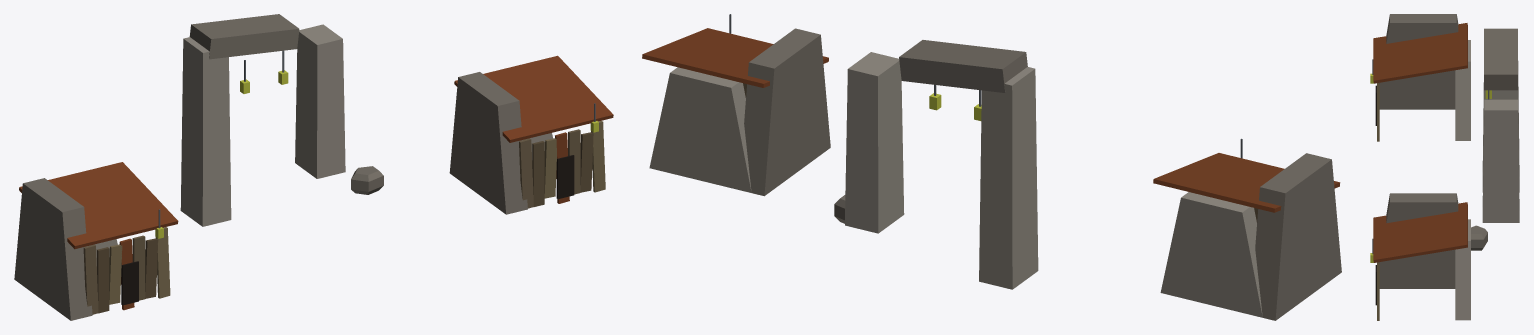
The model's file is ratfolk_court_broken.glb.
3 views of the same model, side by side, from view 1: azimuth 30°, elevation 25°; view 2: azimuth 150°, elevation 25°; view 3: azimuth 270°, elevation 25° (orthographic). The views are drawn at different scales.
Visible parts, largest first — view 1: ratfolk_court_piece3, ratfolk_court_piece4, ratfolk_court_piece5, ratfolk_court_piece2, ratfolk_court_piece8, ratfolk_court_piece1, ratfolk_court_piece10, ratfolk_court_piece6, ratfolk_court_piece9; view 2: ratfolk_court_piece3, ratfolk_court_piece5, ratfolk_court_piece4, ratfolk_court_piece2, ratfolk_court_piece7, ratfolk_court_piece1, ratfolk_court_piece6, ratfolk_court_piece10, ratfolk_court_piece8, ratfolk_court_piece9, ratfolk_court_piece11, ratfolk_court_piece13 (+1 smaller); view 3: ratfolk_court_piece3, ratfolk_court_piece4, ratfolk_court_piece5, ratfolk_court_piece2, ratfolk_court_piece8, ratfolk_court_piece9, ratfolk_court_piece10, ratfolk_court_piece7, ratfolk_court_piece1, ratfolk_court_piece0, ratfolk_court_piece11, ratfolk_court_piece13.
Boxes of the visible parts, x1,y1,x2,y2 form: ratfolk_court_piece3: [14, 162, 178, 320]; ratfolk_court_piece4: [454, 55, 613, 198]; ratfolk_court_piece5: [182, 14, 343, 142]; ratfolk_court_piece2: [295, 94, 504, 213]; ratfolk_court_piece8: [468, 141, 569, 214]; ratfolk_court_piece1: [96, 151, 231, 265]; ratfolk_court_piece10: [296, 53, 344, 116]; ratfolk_court_piece6: [181, 57, 325, 179]; ratfolk_court_piece9: [453, 102, 472, 158]; ratfolk_court_piece3: [1153, 138, 1341, 320]; ratfolk_court_piece5: [854, 40, 1036, 173]; ratfolk_court_piece4: [642, 14, 828, 131]; ratfolk_court_piece2: [754, 142, 904, 233]; ratfolk_court_piece7: [649, 92, 766, 179]; ratfolk_court_piece1: [979, 192, 1266, 318]; ratfolk_court_piece6: [893, 85, 1037, 253]; ratfolk_court_piece10: [846, 84, 902, 151]; ratfolk_court_piece8: [786, 59, 830, 148]; ratfolk_court_piece9: [726, 100, 791, 161]; ratfolk_court_piece11: [846, 68, 883, 138]; ratfolk_court_piece13: [697, 65, 854, 181]; ratfolk_court_piece3: [1370, 14, 1470, 141]; ratfolk_court_piece4: [1370, 193, 1470, 320]; ratfolk_court_piece5: [1483, 28, 1518, 119]; ratfolk_court_piece2: [1445, 159, 1519, 288]; ratfolk_court_piece8: [1379, 259, 1446, 288]; ratfolk_court_piece9: [1422, 249, 1455, 288]; ratfolk_court_piece10: [1483, 119, 1518, 175]; ratfolk_court_piece7: [1455, 263, 1470, 320]; ratfolk_court_piece1: [1455, 109, 1519, 192]; ratfolk_court_piece0: [1484, 107, 1516, 150]; ratfolk_court_piece11: [1503, 106, 1518, 160]; ratfolk_court_piece13: [1484, 109, 1513, 139].
Bounding box in the file's own units: 5.97 × 1.98 × 1.69.
